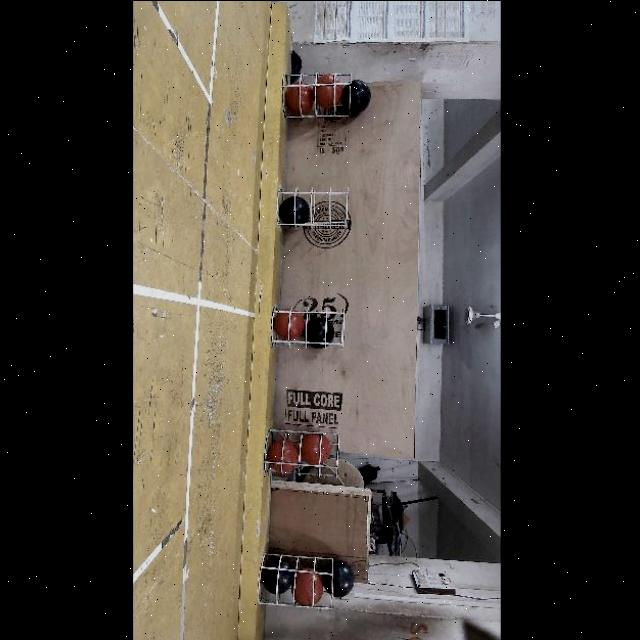P: (321, 562, 355, 597), (264, 556, 294, 594), (340, 80, 372, 112), (307, 312, 335, 346), (282, 193, 310, 223)
R: (294, 568, 326, 606), (270, 441, 302, 474), (276, 306, 306, 336), (316, 74, 342, 108), (288, 81, 314, 113), (303, 433, 329, 462)
S: (256, 548, 340, 618), (258, 426, 344, 482), (270, 182, 354, 234), (268, 301, 350, 353), (278, 70, 354, 121)
